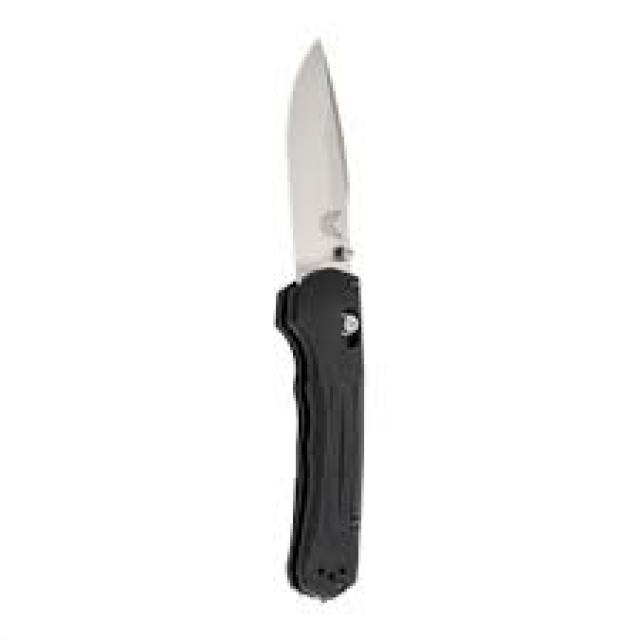knife: (255, 29, 383, 614)
